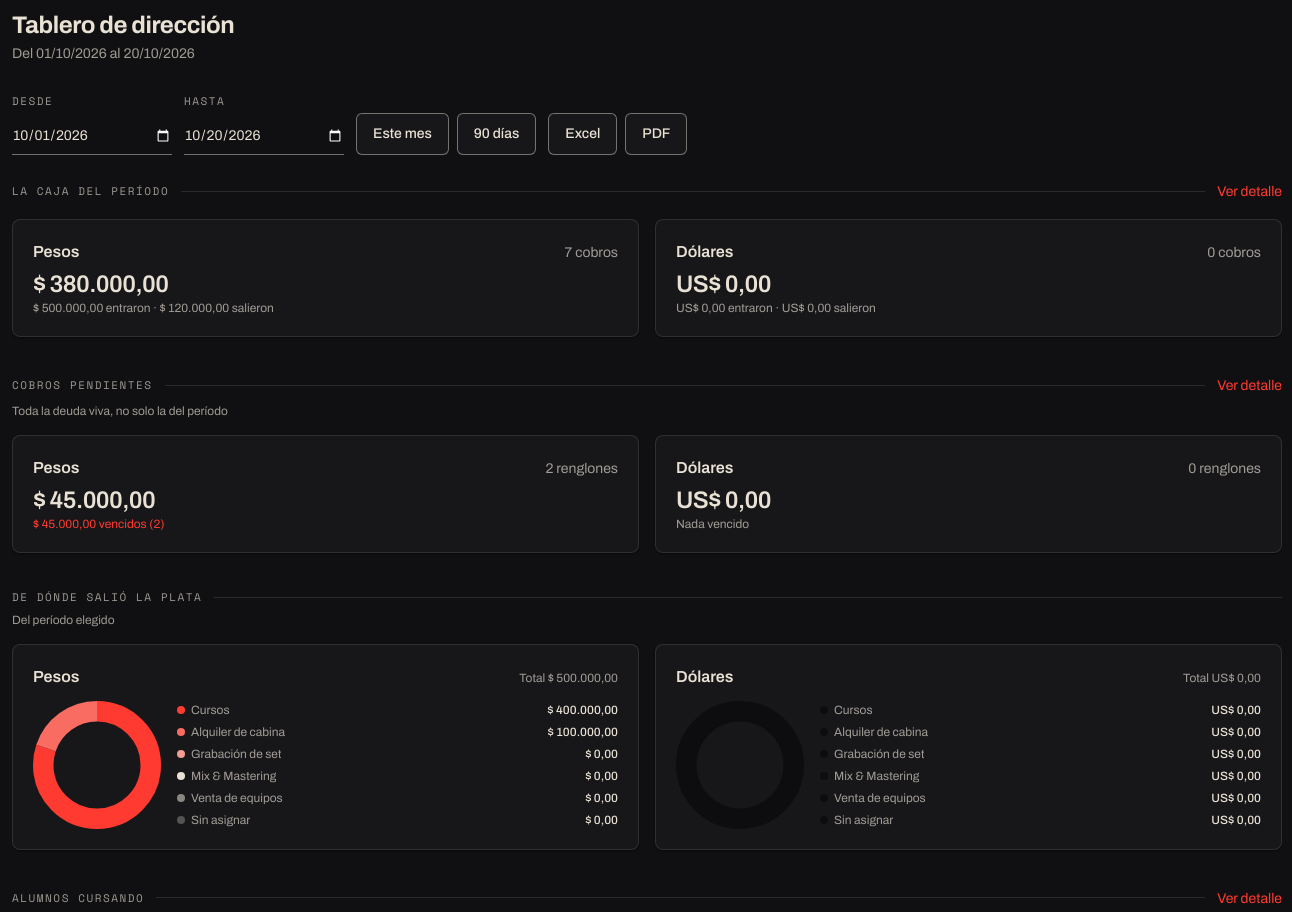
Test case: la exportación › si el archivo no se puede generar lo dice
Click the button "Excel": (583,134) [548,113,617,155]
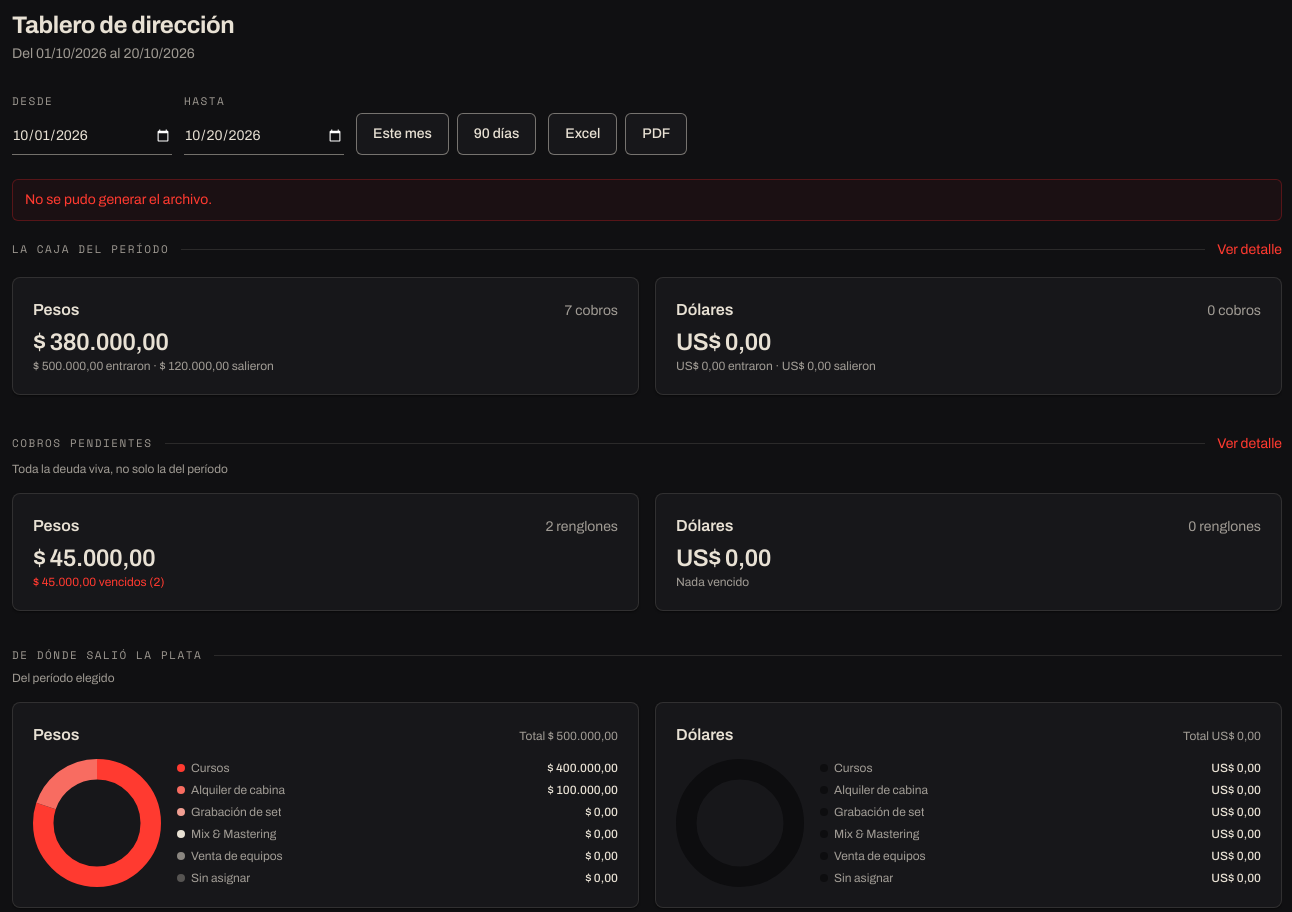
Check: the text "No se pudo generar el archivo." is shown, box [12,179,1282,221]
